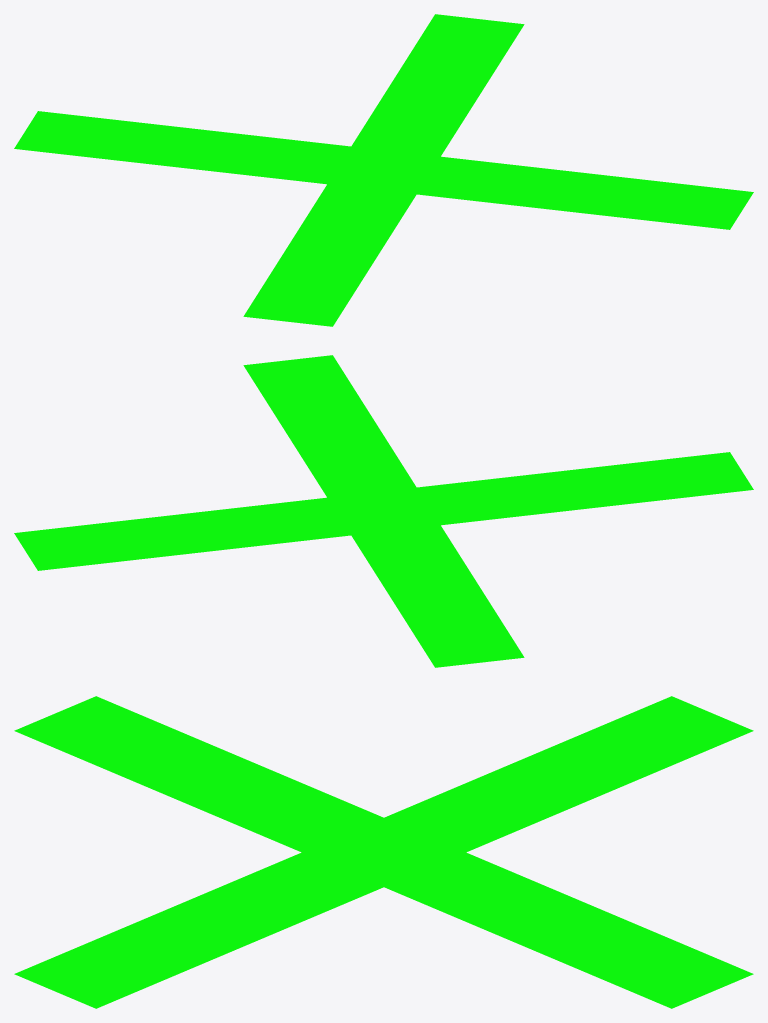
The model's file is gizmo-d-y.glb.
3 renders of one model, top to bottom at view 1: azimuth 30°, elevation 25°; view 2: azimuth 150°, elevation 25°; view 3: azimuth 270°, elevation 25°, orthographic. The views are drawn at different scales.
Parts seen in each view (by area): view 1: disable y; view 2: disable y; view 3: disable y.
Part boxes in pixels (x1=…): disable y: x1=14, y1=14, x2=753, y2=326; disable y: x1=14, y1=355, x2=753, y2=667; disable y: x1=14, y1=696, x2=753, y2=1008.
Size of the model in its own units: 0.2128 by 6.66e-16 by 0.2128.
1 material, 1 textured.
